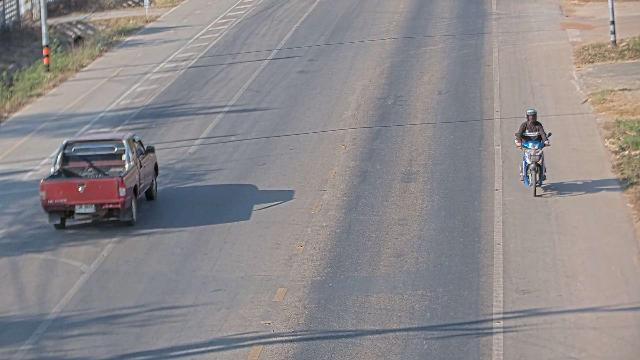motorcycle: (511, 118, 553, 197)
pickup-truck: (38, 131, 159, 229)
